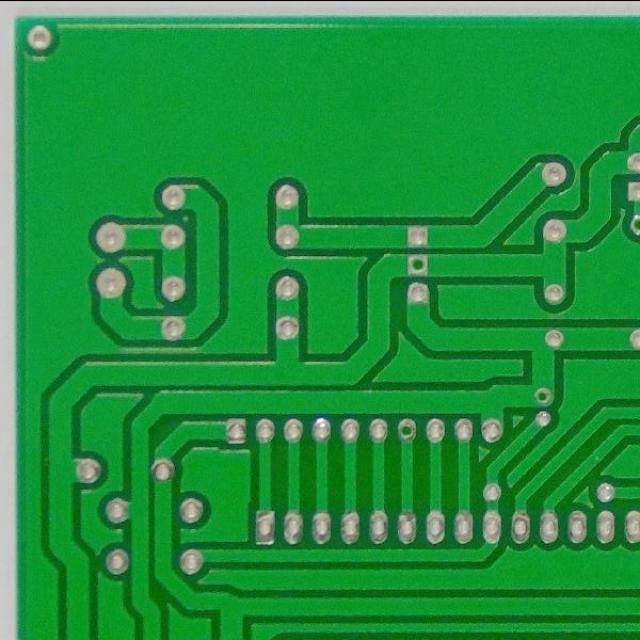missing_hole: (402, 248, 431, 278), (395, 413, 419, 440), (531, 380, 556, 405)
